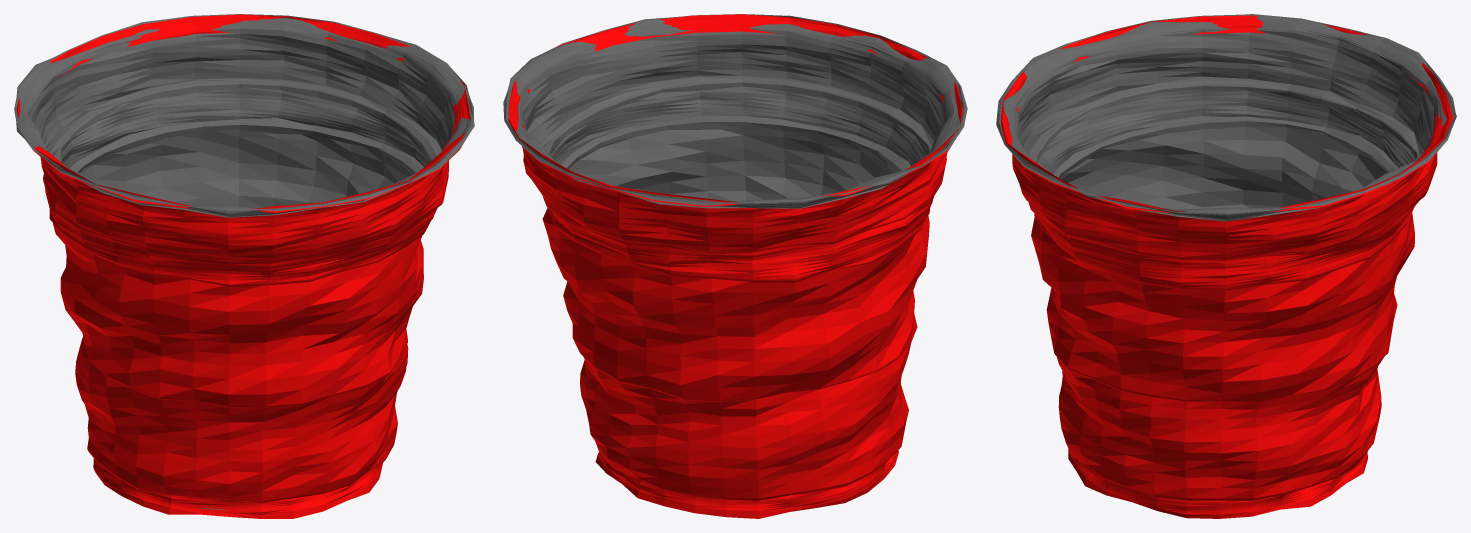
The model's file is crush_low_0.obj.
3 renders of one model, left to right at view 1: azimuth 30°, elevation 25°; view 2: azimuth 150°, elevation 25°; view 3: azimuth 270°, elevation 25°, orthographic.
Visible parts, largest first — view 1: model; view 2: model; view 3: model.
Boxes of the visible parts, x1=… form: model: x1=14, y1=14, x2=474, y2=518; model: x1=503, y1=14, x2=967, y2=518; model: x1=996, y1=14, x2=1456, y2=518.
Size of the model in its own units: 0.0948 by 0.0791 by 0.0933.
1 material, 1 textured.
